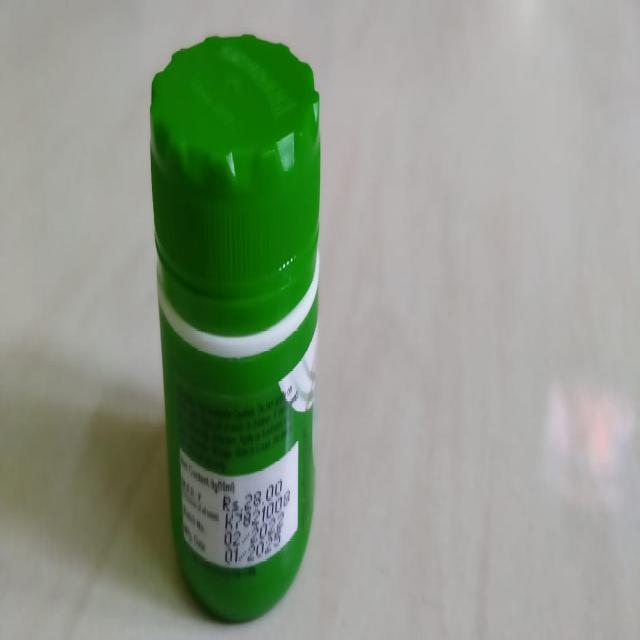eucalyptus oil: (143, 40, 341, 620)
